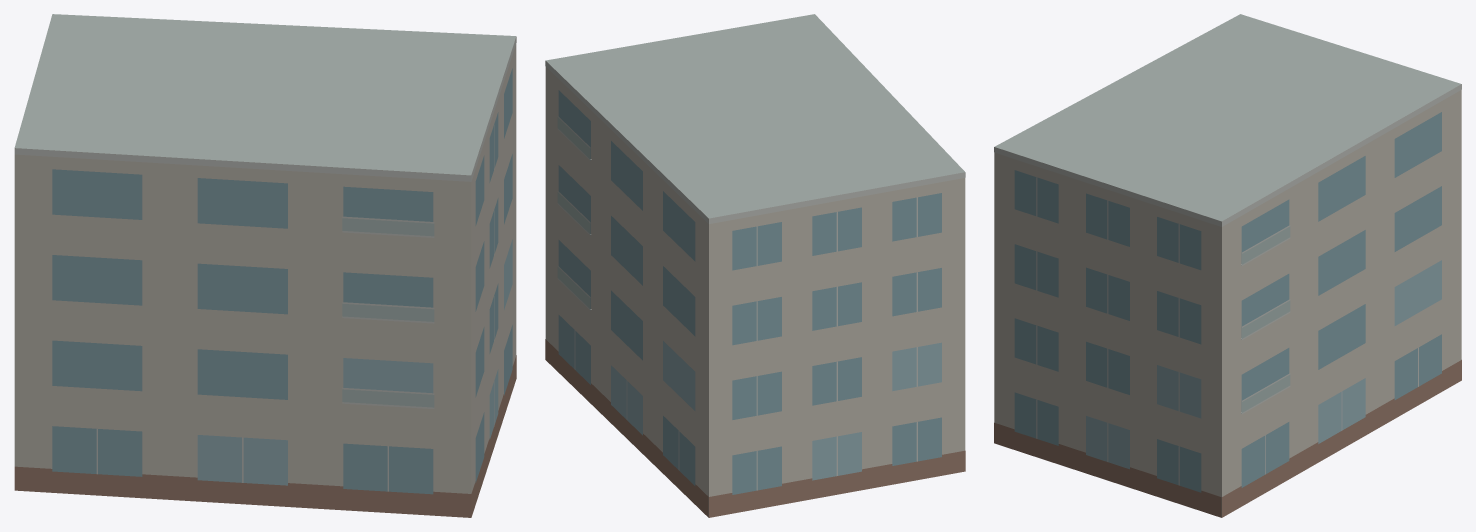
File: survey-upis-32817272.glb
3 views of the same model, side by side, from view 1: azimuth 30°, elevation 25°; view 2: azimuth 150°, elevation 25°; view 3: azimuth 270°, elevation 25° (orthographic). The views are drawn at different scales.
Parts seen in each view (by area): view 1: survey-upis-32817272.tmp; view 2: survey-upis-32817272.tmp; view 3: survey-upis-32817272.tmp.
Part boxes in pixels (bbox=[...]): survey-upis-32817272.tmp: bbox=[14, 14, 516, 517]; survey-upis-32817272.tmp: bbox=[545, 14, 965, 517]; survey-upis-32817272.tmp: bbox=[994, 14, 1461, 517].
Size of the model in its own units: 19.34 by 12.88 by 18.42.
